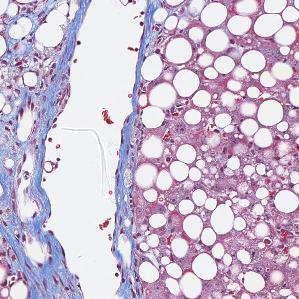fibrosis: (0, 104, 47, 246)
